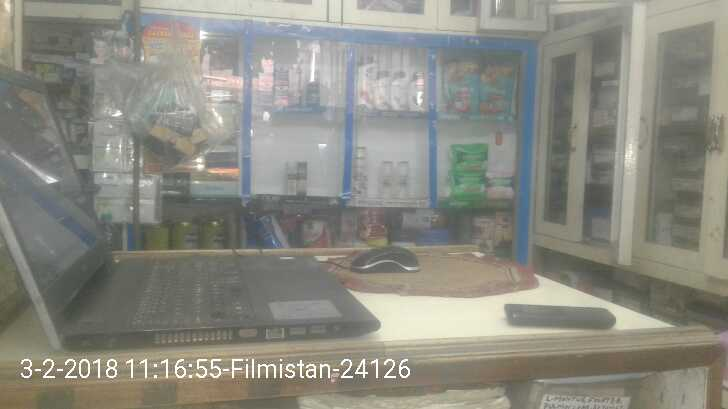vicks: (253, 57, 297, 107)
